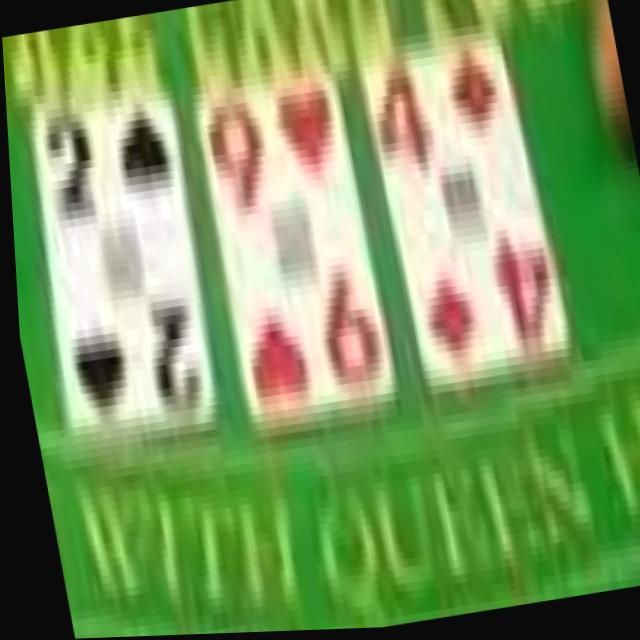Card-2: (27, 92, 212, 431)
Card-4: (359, 36, 565, 389)
Card-9: (195, 70, 391, 441)
